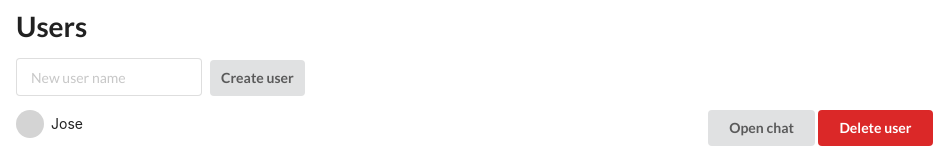
Test: Screens | Dashboard › when clicking on delete button › removes the user from the list
The image size is (950, 163).
Step 1. Click the button "Delete user" → (875, 128), box 818,110 -> 932,146
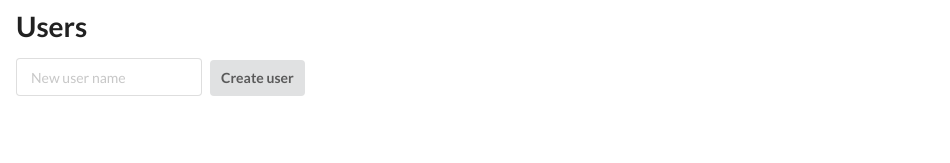
Check: the text "Jose" is gone
